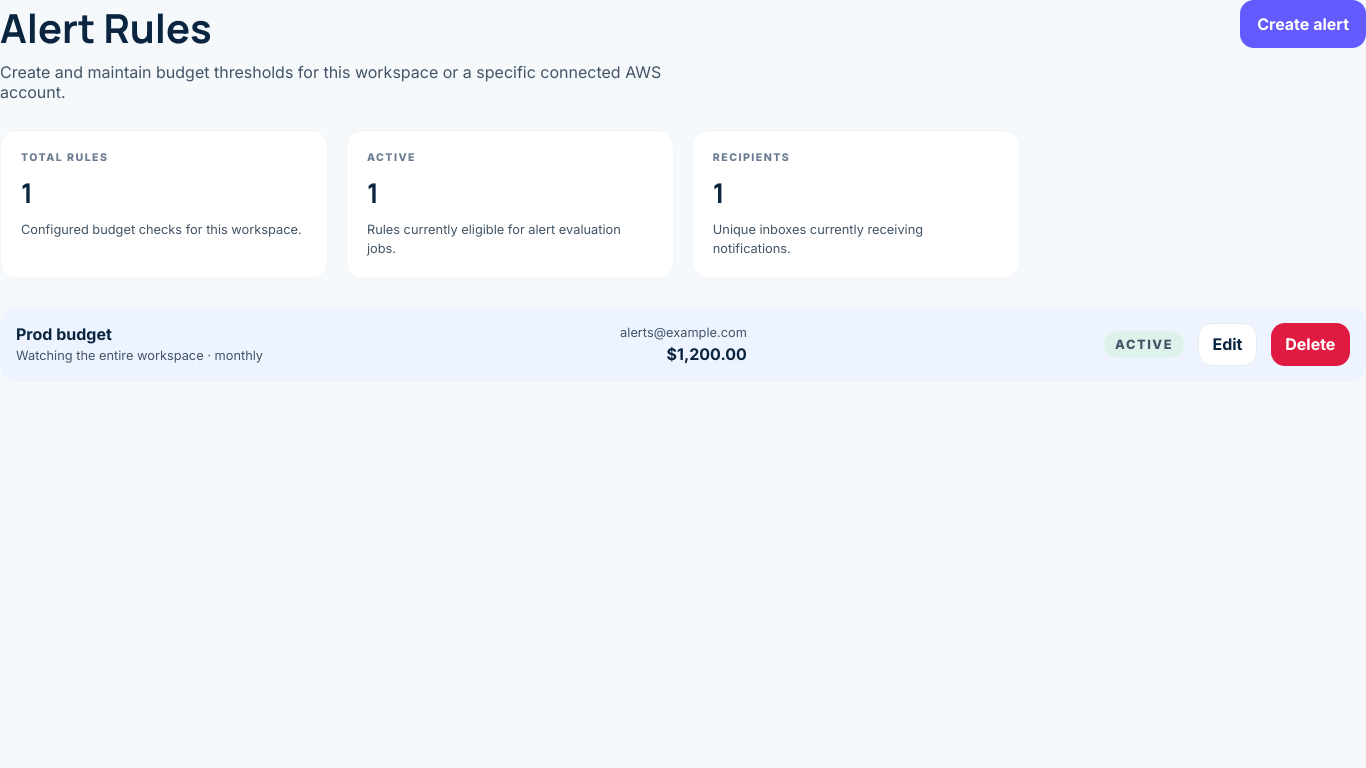
it: alerts page supports delete confirmation and list reload
The image size is (1366, 768).
Expected: the text "Prod budget" is shown, [16,324,112,344]
Click the button "Delete" at (1310, 344), box [1271,323,1350,366]
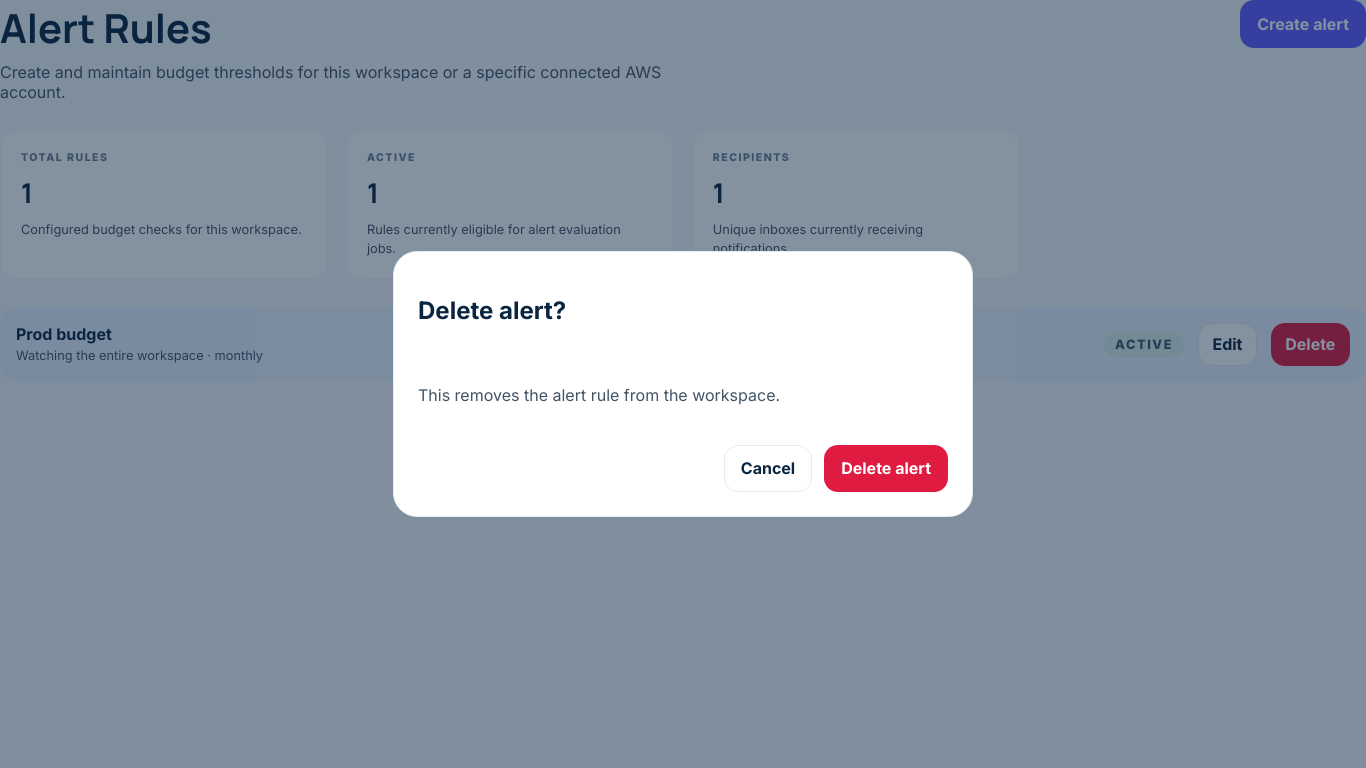
Click the button "Delete alert" at (886, 468), box [824,445,948,492]
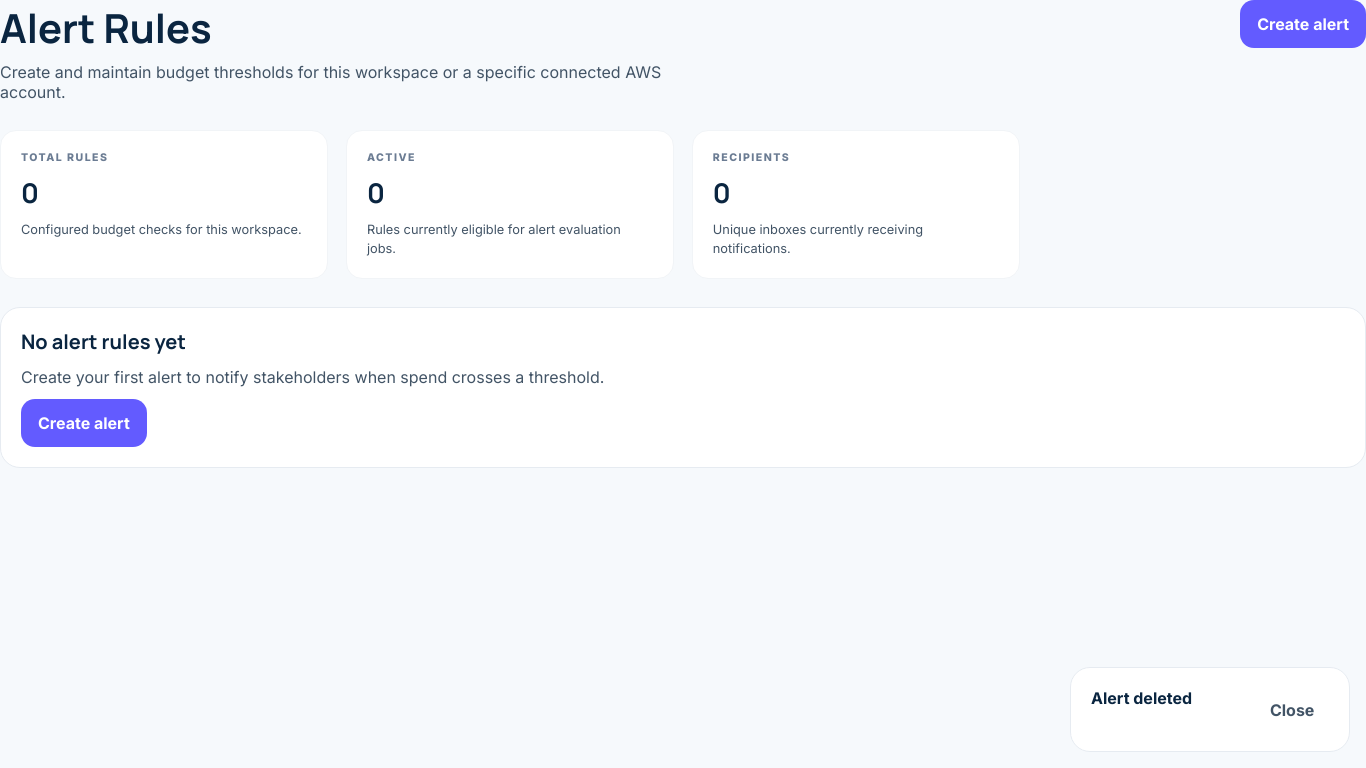
Expected: the heading "No alert rules yet" is shown, [21,328,186,355]
